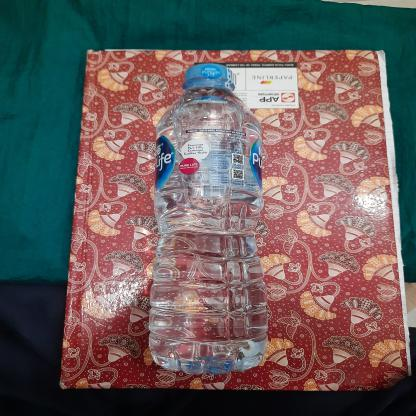bottle: (143, 60, 272, 378)
